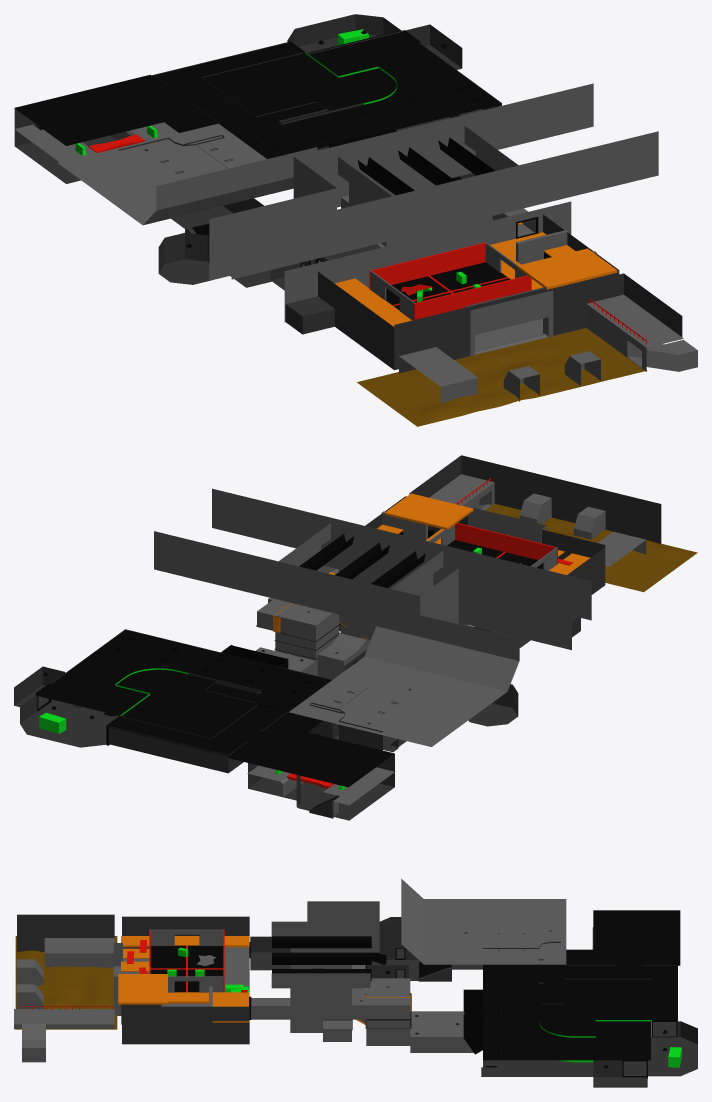
File: map_construction.fbx
The picture shows the model from 3 angles, top to bottom: view 1: azimuth 30°, elevation 25°; view 2: azimuth 150°, elevation 25°; view 3: azimuth 270°, elevation 25°; orthographic projection. The views are drawn at different scales.
Visible parts, largest first — view 1: mesh_map_construction.066, mesh_map_construction.069, mesh_map_construction.068, mesh_map_construction.006, mesh_map_construction.005, mesh_map_construction.007, mesh_map_construction.024, mesh_map_construction.032, mesh_map_construction.004, mesh_map_construction.021, mesh_map_construction.098, mesh_map_construction.012 (+12 smaller); view 2: mesh_map_construction.066, mesh_map_construction.069, mesh_map_construction.068, mesh_map_construction.005, mesh_map_construction.024, mesh_map_construction.021, mesh_map_construction.098, mesh_map_construction.006, mesh_map_construction.061, mesh_map_construction.007, mesh_map_construction.093, mesh_map_construction.078 (+14 smaller); view 3: mesh_map_construction.069, mesh_map_construction.068, mesh_map_construction.024, mesh_map_construction.004, mesh_map_construction.021, mesh_map_construction.007, mesh_map_construction.006, mesh_map_construction.098, mesh_map_construction.061, mesh_map_construction.078, mesh_map_construction.005, mesh_map_construction.010 (+13 smaller).
Part boxes in pixels (bbox=[...]): mesh_map_construction.066: bbox=[209, 83, 658, 280]; mesh_map_construction.069: bbox=[113, 30, 501, 167]; mesh_map_construction.068: bbox=[58, 123, 317, 225]; mesh_map_construction.006: bbox=[357, 328, 646, 426]; mesh_map_construction.005: bbox=[394, 270, 682, 373]; mesh_map_construction.007: bbox=[399, 294, 697, 403]; mesh_map_construction.024: bbox=[318, 125, 535, 262]; mesh_map_construction.032: bbox=[284, 201, 571, 322]; mesh_map_construction.004: bbox=[285, 214, 618, 369]; mesh_map_construction.021: bbox=[153, 14, 501, 287]; mesh_map_construction.098: bbox=[14, 74, 163, 145]; mesh_map_construction.012: bbox=[369, 242, 531, 319]; mesh_map_construction.066: bbox=[154, 488, 591, 650]; mesh_map_construction.069: bbox=[36, 630, 366, 764]; mesh_map_construction.068: bbox=[289, 604, 519, 746]; mesh_map_construction.005: bbox=[405, 455, 661, 559]; mesh_map_construction.024: bbox=[257, 523, 473, 679]; mesh_map_construction.021: bbox=[14, 629, 406, 773]; mesh_map_construction.098: bbox=[227, 732, 394, 787]; mesh_map_construction.006: bbox=[485, 503, 697, 592]; mesh_map_construction.061: bbox=[256, 613, 339, 675]; mesh_map_construction.007: bbox=[429, 474, 646, 566]; mesh_map_construction.093: bbox=[248, 754, 394, 820]; mesh_map_construction.078: bbox=[299, 534, 425, 587]; mesh_map_construction.069: bbox=[483, 948, 677, 1060]; mesh_map_construction.068: bbox=[401, 879, 566, 964]; mesh_map_construction.024: bbox=[251, 921, 410, 1041]; mesh_map_construction.004: bbox=[122, 916, 249, 1044]; mesh_map_construction.021: bbox=[366, 923, 697, 1087]; mesh_map_construction.007: bbox=[14, 938, 114, 1062]; mesh_map_construction.006: bbox=[15, 936, 117, 1029]; mesh_map_construction.098: bbox=[593, 910, 680, 965]; mesh_map_construction.061: bbox=[366, 1011, 473, 1052]; mesh_map_construction.078: bbox=[272, 936, 371, 981]; mesh_map_construction.005: bbox=[17, 914, 114, 952]; mesh_map_construction.010: bbox=[150, 945, 223, 992].
Bounding box in the file's own units: 89.11 × 20.79 × 148.
